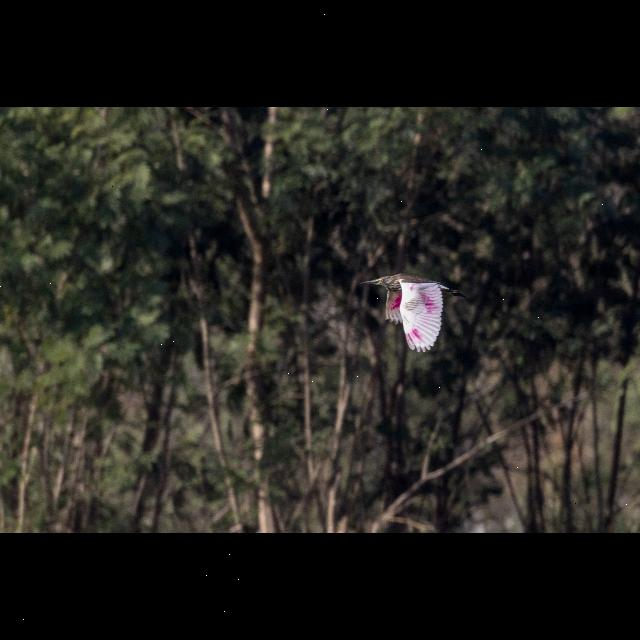heron: (359, 272, 451, 354)
